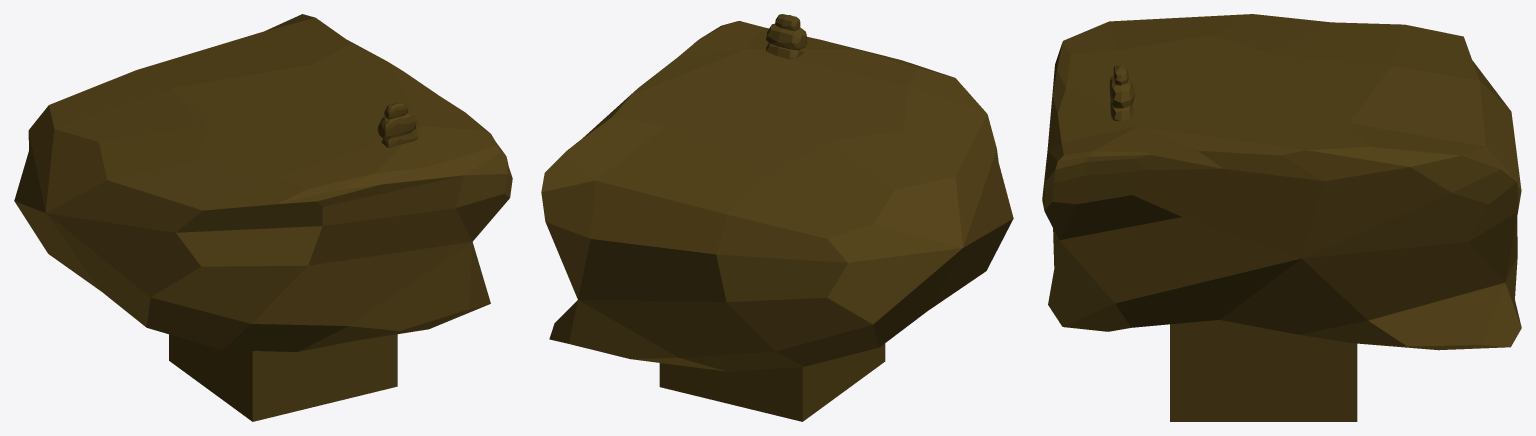
Rendered from Pedras04.fbx.
3 views of the same model, side by side, from view 1: azimuth 30°, elevation 25°; view 2: azimuth 150°, elevation 25°; view 3: azimuth 270°, elevation 25° (orthographic). The views are drawn at different scales.
Parts seen in each view (by area): view 1: Cube_cell.008, Cube; view 2: Cube_cell.008, Cube; view 3: Cube_cell.008, Cube.
Part boxes in pixels (box(x1,y1,x2,y2)): Cube_cell.008: box(14, 14, 512, 351); Cube: box(169, 334, 397, 421); Cube_cell.008: box(541, 14, 1013, 371); Cube: box(659, 343, 885, 421); Cube_cell.008: box(1042, 14, 1521, 350); Cube: box(1170, 320, 1357, 421).
Size of the model in its own units: 479 by 402 by 512.
